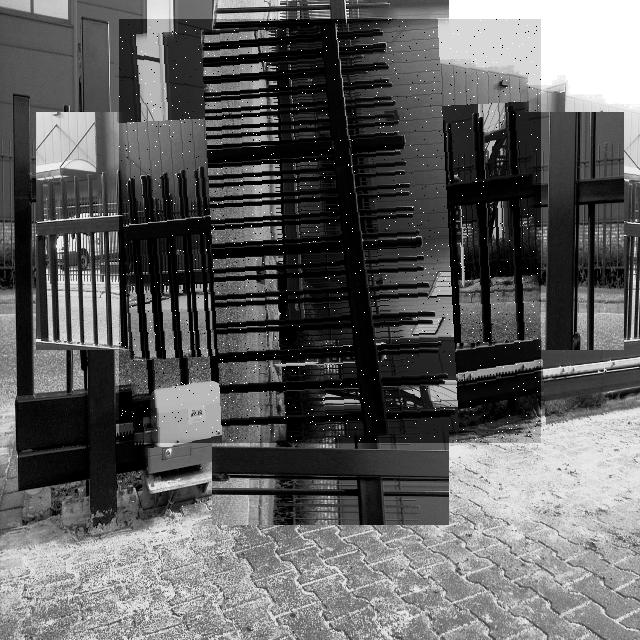fences: (119, 19, 541, 443)
